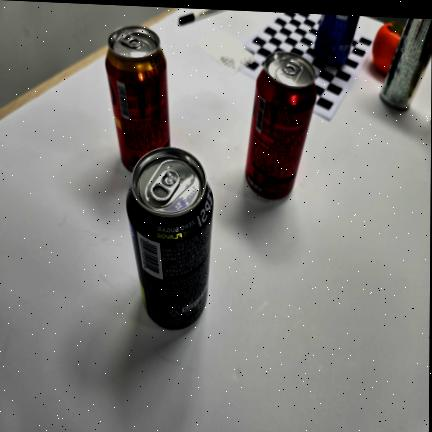can_coke_decaf: (104, 25, 172, 177)
can_coke_zero: (242, 53, 319, 202)
can_pepsi_zero: (124, 147, 216, 332)
